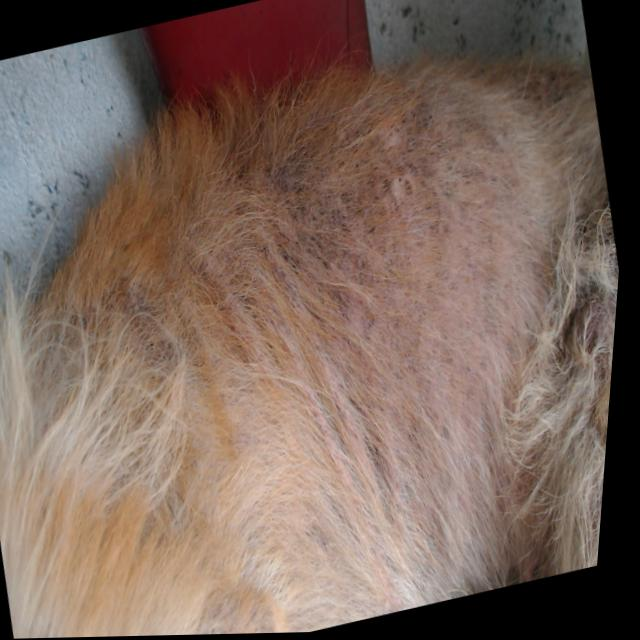demodicosis: (232, 108, 525, 421)
